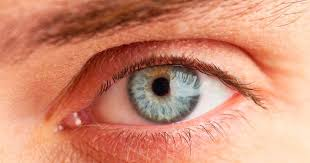pupil: (128, 69, 199, 122)
